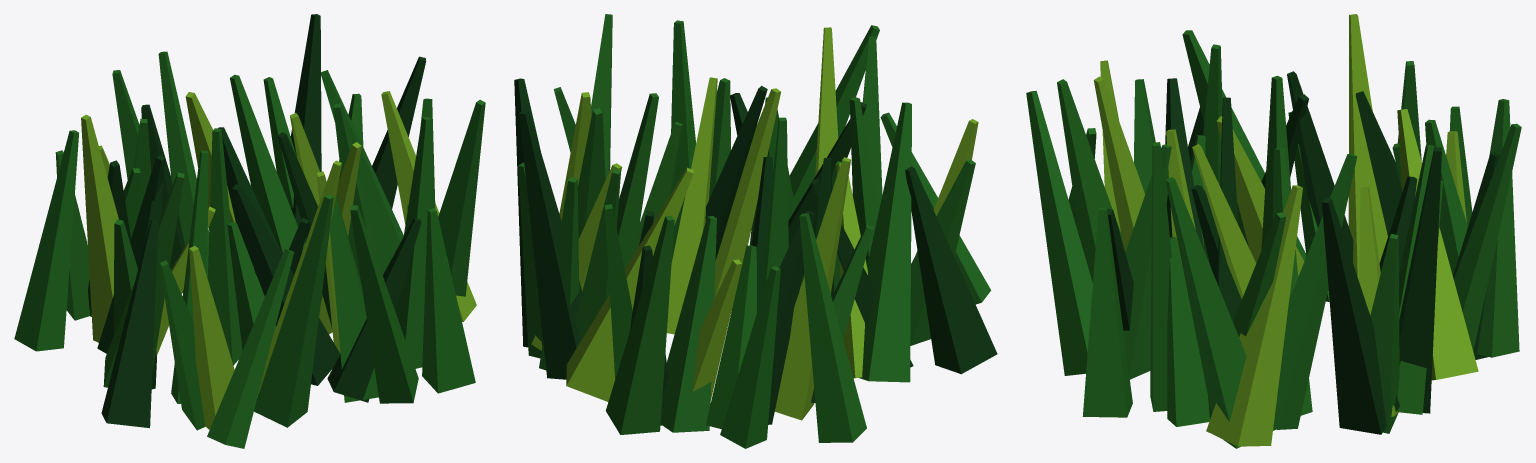
Rendered from grass_a.glb.
3 renders of one model, left to right at view 1: azimuth 30°, elevation 25°; view 2: azimuth 150°, elevation 25°; view 3: azimuth 270°, elevation 25°, orthographic. The views are drawn at different scales.
Visible parts, largest first — view 1: model; view 2: model; view 3: model.
Boxes of the visible parts, x1,y1,x2,y2 form: model: [14, 14, 485, 448]; model: [514, 14, 997, 448]; model: [1026, 14, 1521, 448].
Bounding box in the file's own units: 1.13 × 0.684 × 1.11.
1 material, 1 textured.
